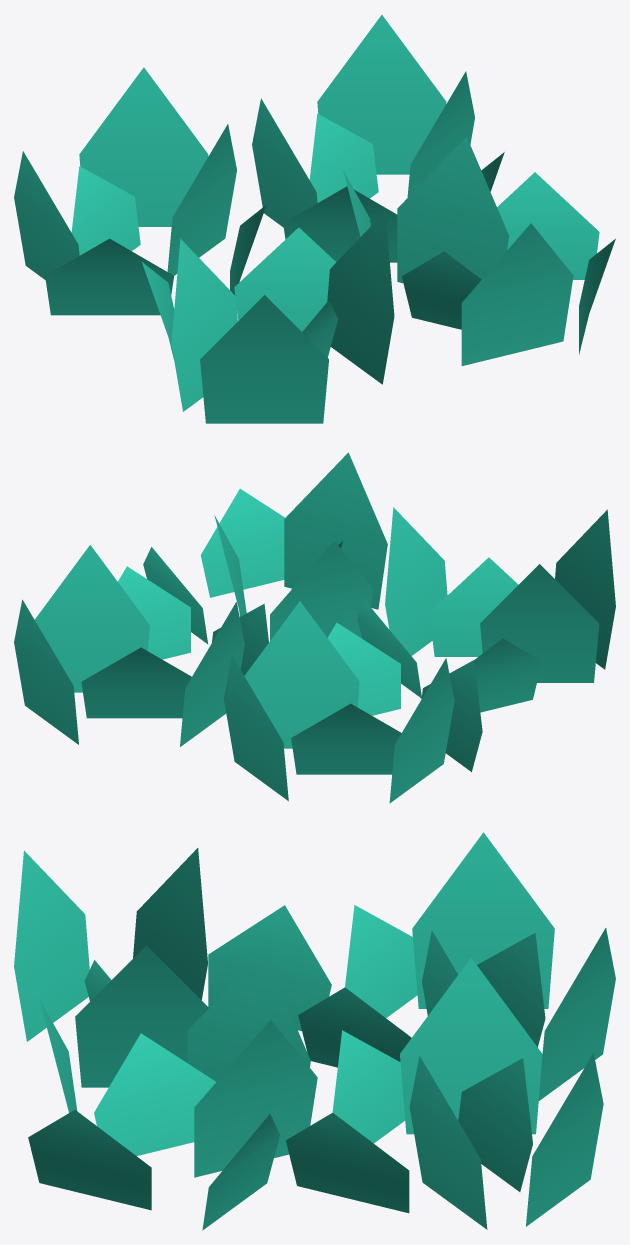
The model's file is d_kenney_feuillage.glb.
3 views of the same model, one above another, from view 1: azimuth 30°, elevation 25°; view 2: azimuth 150°, elevation 25°; view 3: azimuth 270°, elevation 25° (orthographic). The views are drawn at different scales.
Parts seen in each view (by area): view 1: d_kenney_feuillage; view 2: d_kenney_feuillage; view 3: d_kenney_feuillage.
Boxes of the visible parts, x1=… form: d_kenney_feuillage: x1=14, y1=15, x2=615, y2=423; d_kenney_feuillage: x1=14, y1=452, x2=615, y2=803; d_kenney_feuillage: x1=14, y1=832, x2=615, y2=1230.
Bounding box in the file's own units: 0.4759 × 0.1425 × 0.4873.
Materials: 1 (1 with a texture image).
